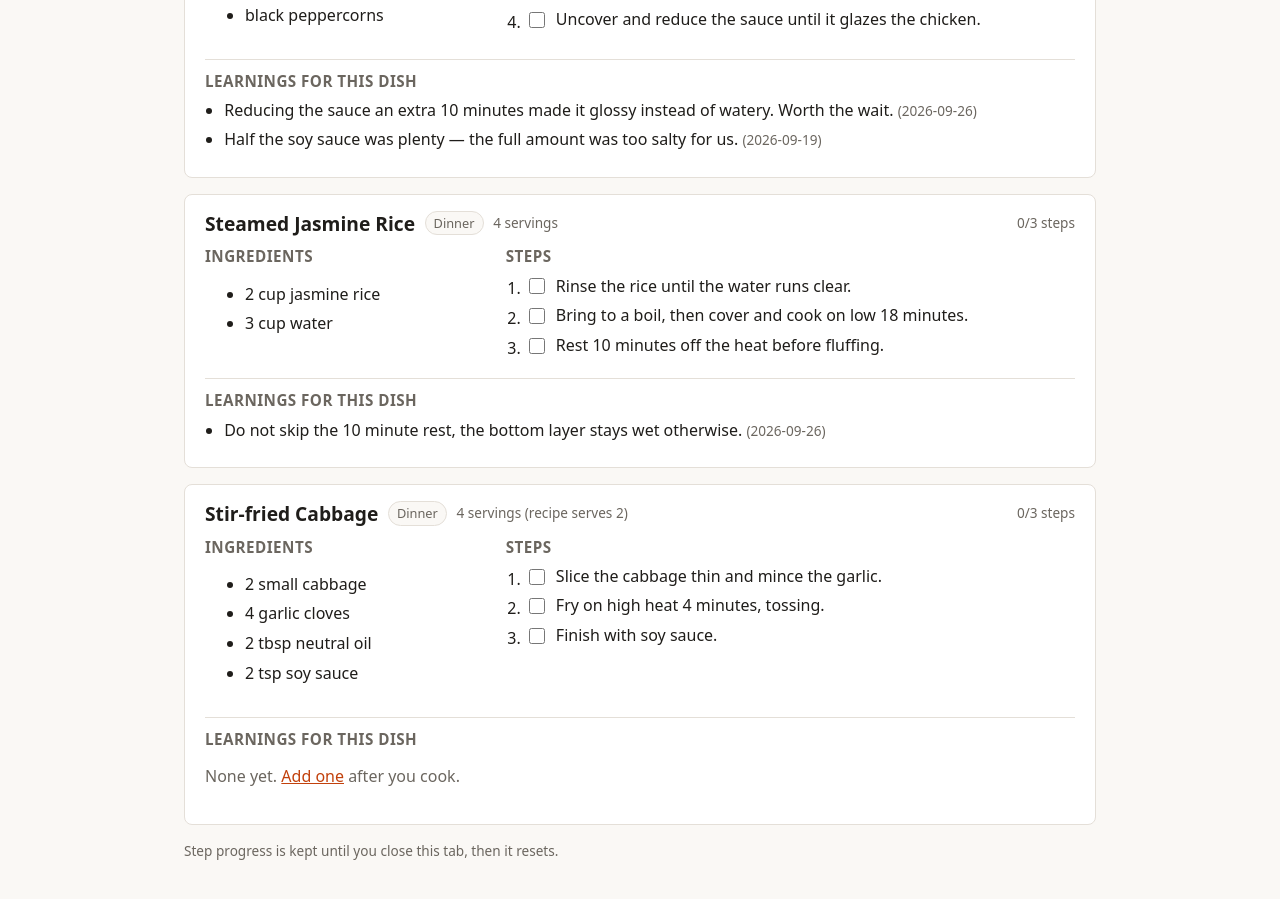
Test case: Cooking › shows today's dishes with general learnings and tracks step progress in the session
The width and height of the screenshot is (1280, 899).
(page scrolled)
Check: the link "Steamed Jasmine Rice" is shown, box x1=205 y1=210 x2=415 y2=237
Check: the link "Stir-fried Cabbage" is shown, box x1=205 y1=500 x2=378 y2=527
What coordinates should you click on to do the following:
click the checkbox labelled "Slice the cabbage thin and mince the garlic."
I would click on:
 (537, 577)
Its box is x1=529 y1=569 x2=545 y2=585.
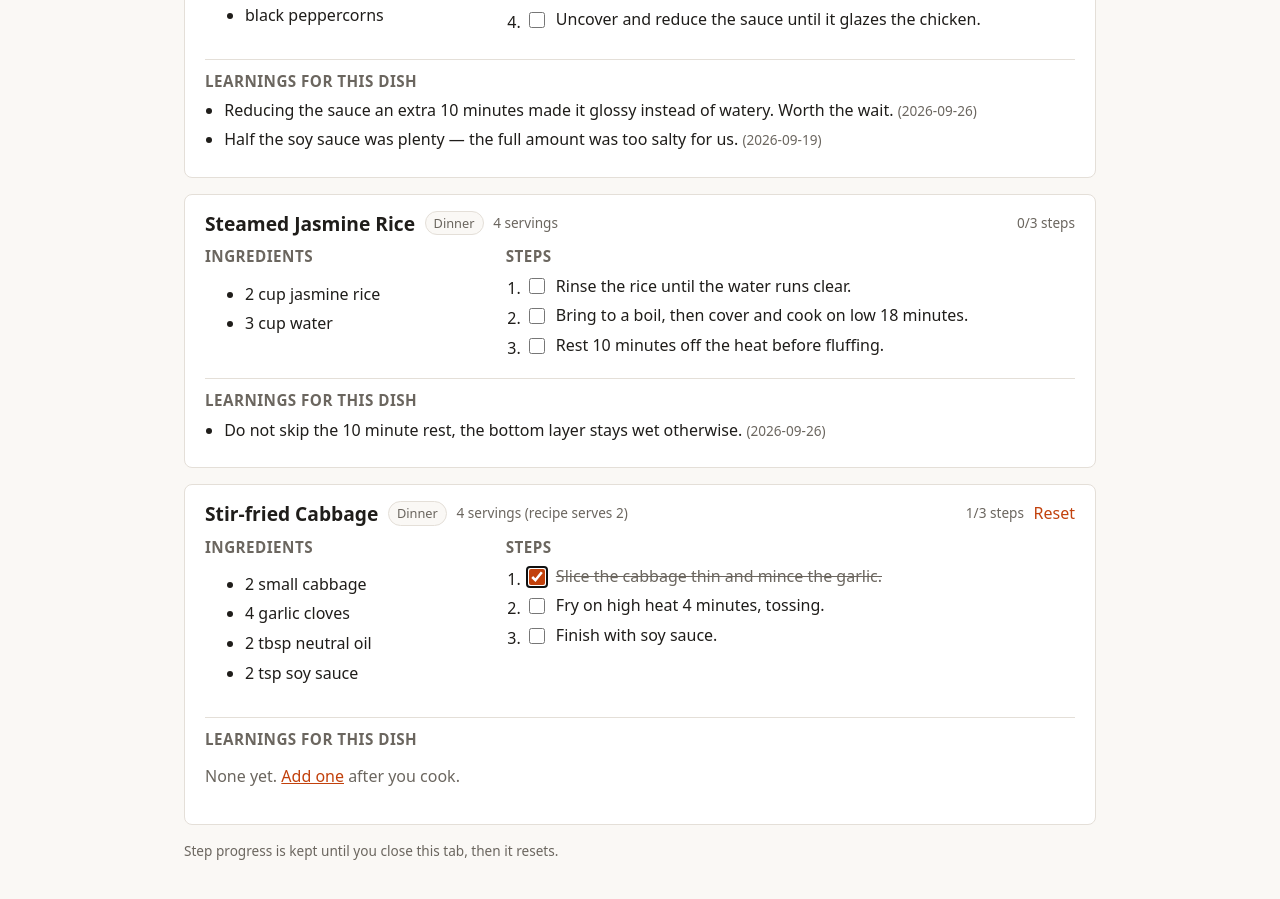
Check: the text "1/3 steps" is shown, box x1=966 y1=503 x2=1024 y2=524
